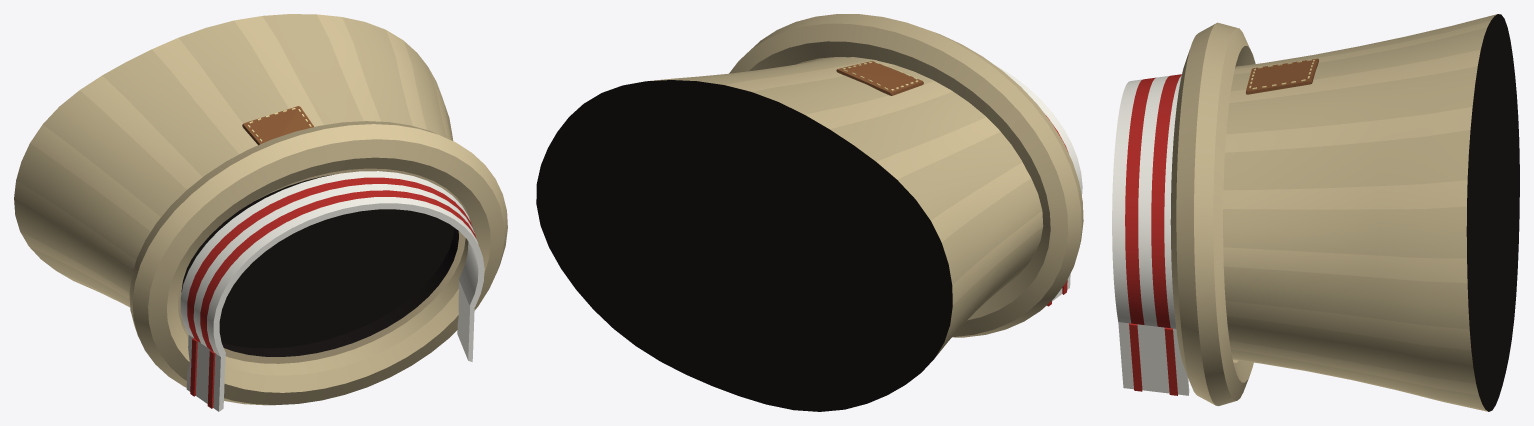
The model's file is Sleeve_Tavern.fbx.
3 views of the same model, side by side, from view 1: azimuth 30°, elevation 25°; view 2: azimuth 150°, elevation 25°; view 3: azimuth 270°, elevation 25° (orthographic). The views are drawn at different scales.
Visible parts, largest first — view 1: Sleeve_Tavern; view 2: Sleeve_Tavern; view 3: Sleeve_Tavern.
Boxes of the visible parts, x1,y1,x2,y2 form: Sleeve_Tavern: (14,14,507,411); Sleeve_Tavern: (536,14,1083,411); Sleeve_Tavern: (1112,14,1519,411).
Size of the model in its own units: 0.9839 by 0.6727 by 0.7264.
1 material, 1 textured.
